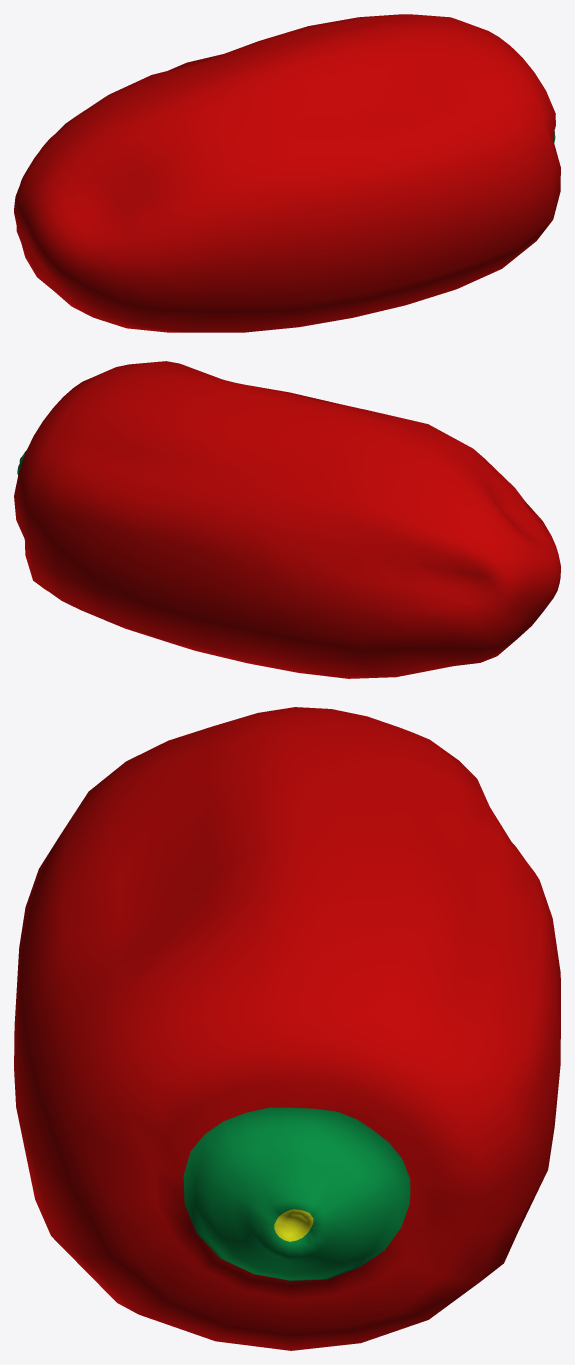
File: datte_Fruit.fbx
3 renders of one model, top to bottom at view 1: azimuth 30°, elevation 25°; view 2: azimuth 150°, elevation 25°; view 3: azimuth 270°, elevation 25°, orthographic. The views are drawn at different scales.
Parts seen in each view (by area): view 1: polySurface1; view 2: polySurface1; view 3: polySurface1.
Part boxes in pixels (box(x1,y1,x2,y2)): polySurface1: box(14, 14, 560, 332); polySurface1: box(14, 361, 560, 678); polySurface1: box(14, 707, 560, 1350).
Size of the model in its own units: 22.94 by 10.66 by 12.24.
